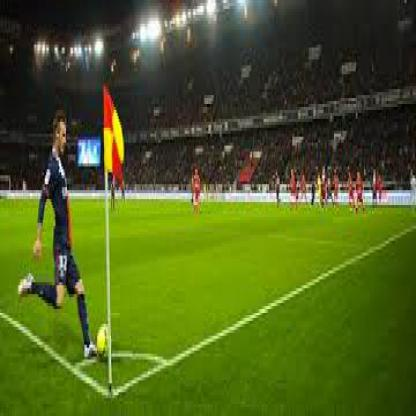corner kick: (30, 64, 164, 405)
